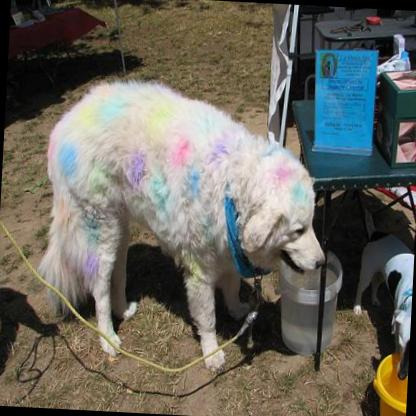kuvasz: (26, 71, 336, 381)
